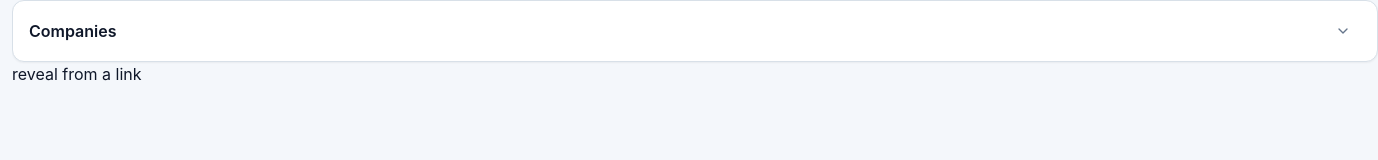
SectionCard controlled open state › still opens when the user clicks the header
What coordinates should you click on to do the following:
click the button with test id "trigger"
I would click on:
 (73, 31)
Its box is [13,1,1377,61].
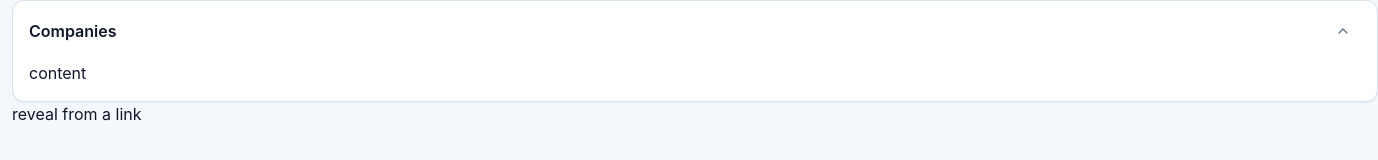
Expected: the text "content" is shown, [29,63,86,83]
